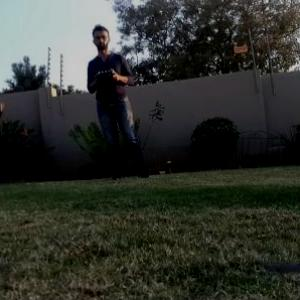follow: (85, 18, 157, 183)
